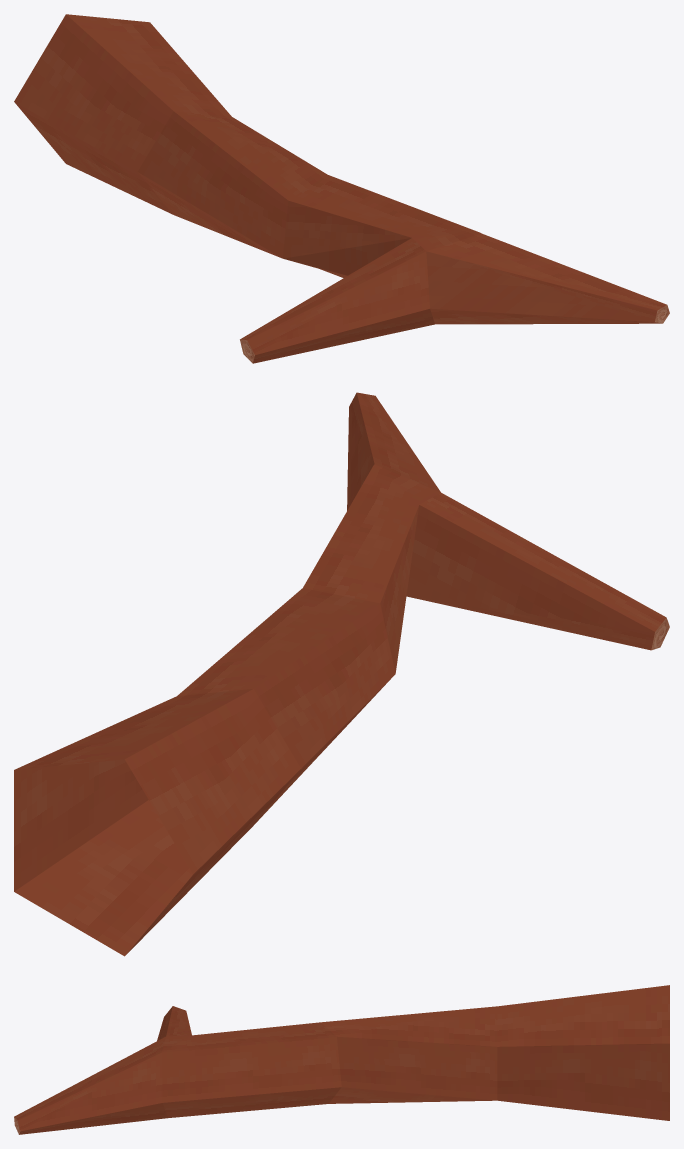
Rendered from SM_AP_Tree_Trunk_1.glb.
3 renders of one model, top to bottom at view 1: azimuth 30°, elevation 25°; view 2: azimuth 150°, elevation 25°; view 3: azimuth 270°, elevation 25°, orthographic. The views are drawn at different scales.
Visible parts, largest first — view 1: SM_AP_Tree_Trunk_1; view 2: SM_AP_Tree_Trunk_1; view 3: SM_AP_Tree_Trunk_1.
Part boxes in pixels (<box>): SM_AP_Tree_Trunk_1: <box>14,14,669,363</box>; SM_AP_Tree_Trunk_1: <box>14,392,669,956</box>; SM_AP_Tree_Trunk_1: <box>14,985,669,1134</box>.
Bounding box in the file's own units: 7.46 × 3.21 × 15.21.
1 material, 1 textured.
